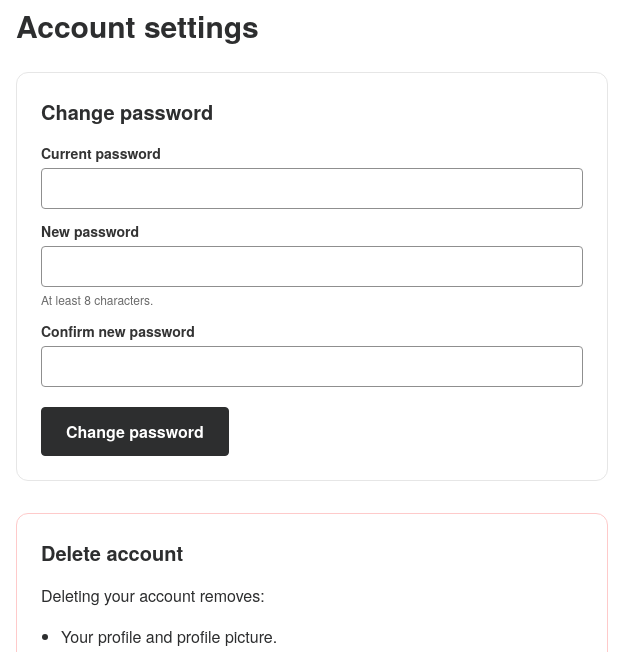
Test: mismatched or short new passwords are caught before anything is sent
In the password field labelled "Current password": (312, 188) top-left (41, 168), bottom-right (583, 209), type "old-password"
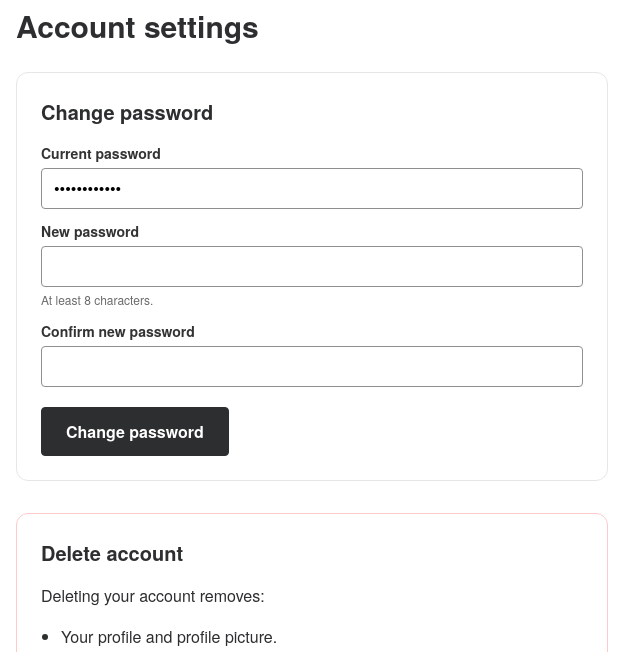
In the password field labelled "New password": (312, 266) top-left (41, 246), bottom-right (583, 287), type "short"
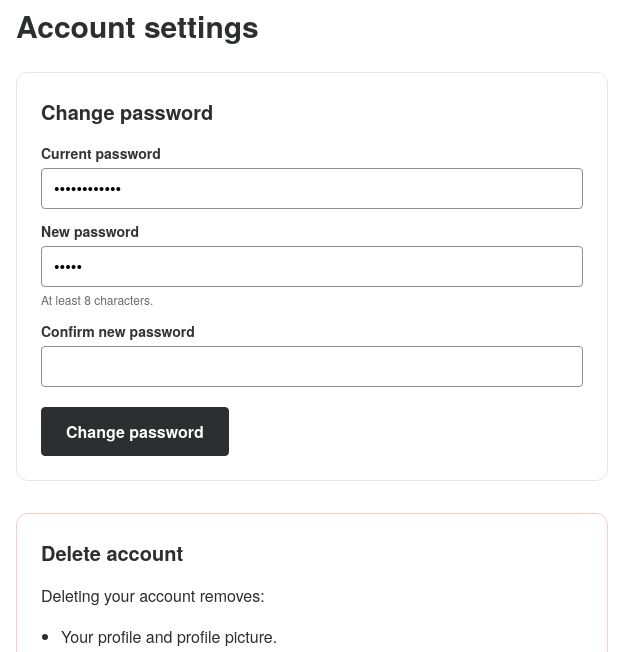
In the password field labelled "Confirm new password": (312, 366) top-left (41, 346), bottom-right (583, 387), type "shorter"
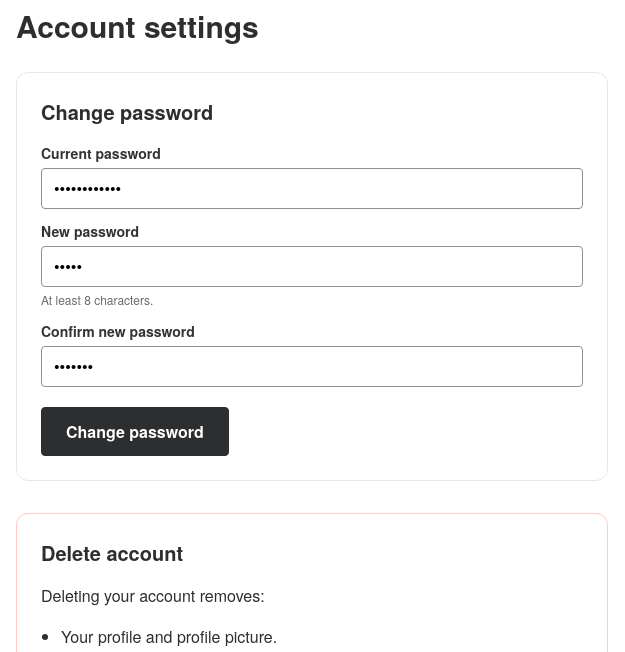
Click the button "Change password": (135, 432) top-left (41, 407), bottom-right (229, 456)
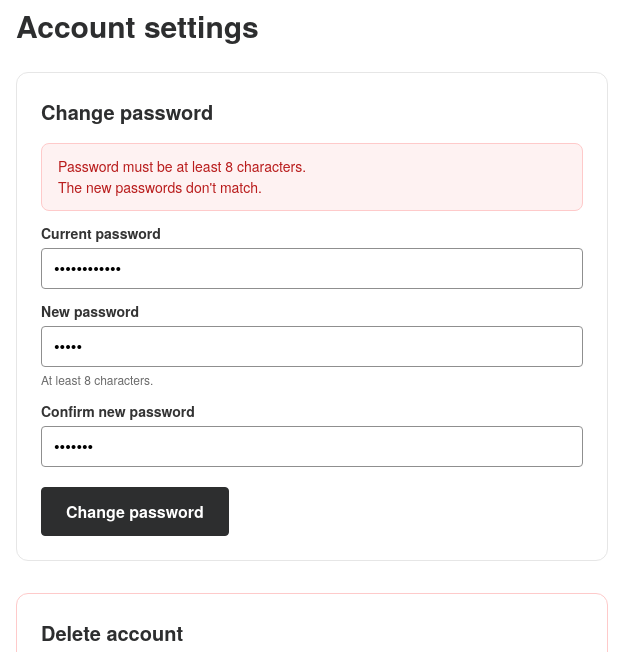
Result: the list item "Password must be at least 8 characters." is shown at top-left (58, 156), bottom-right (306, 176)
Result: the list item "The new passwords don't match." is shown at top-left (58, 177), bottom-right (262, 197)
